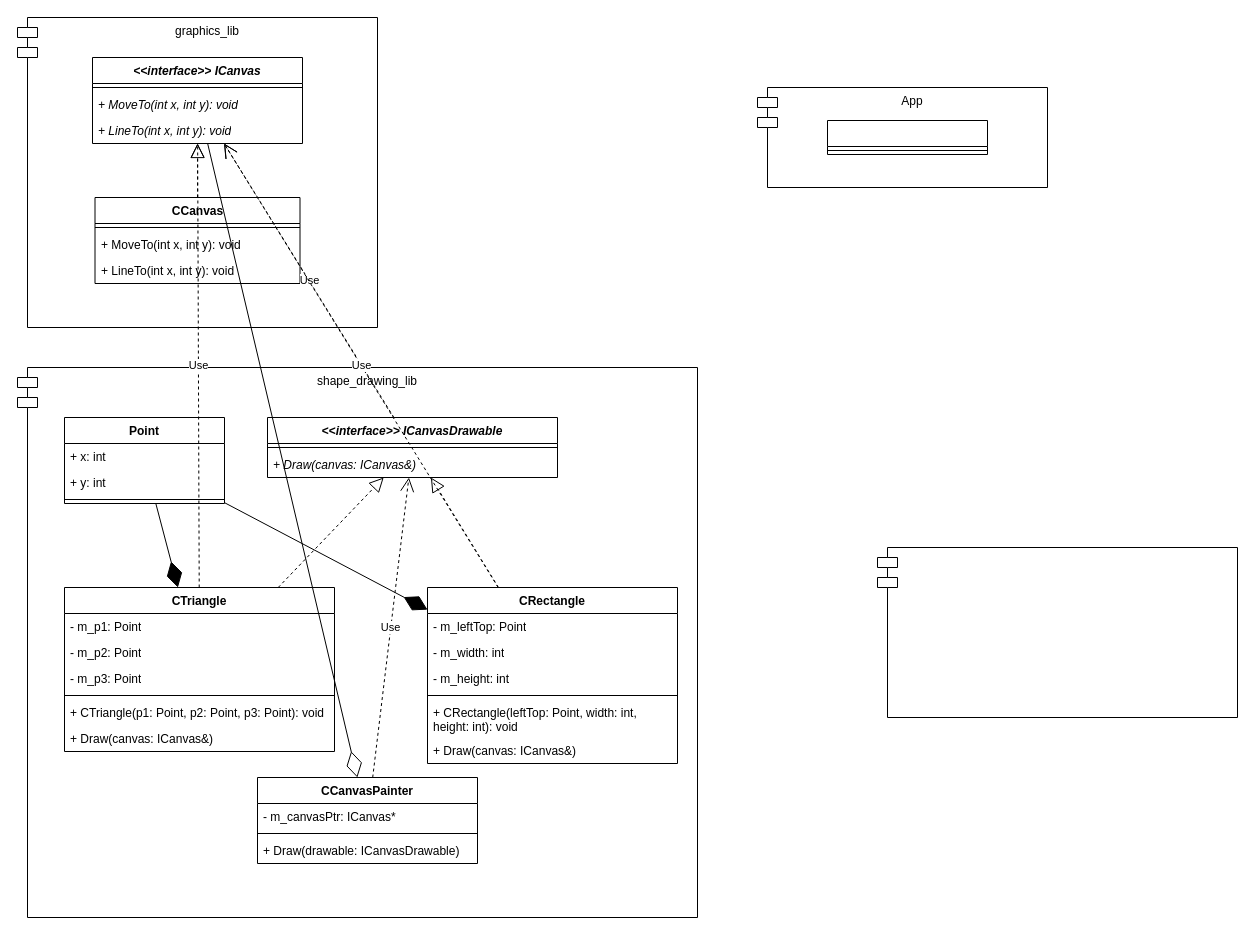
The diagram is 1255 pixels wide and 935 high, and some of its shapes have lost their labels. The centre of each missing label's shape, as x and y in pixels:
main: point (907, 137)
modern_graphics_lib: point (1057, 632)
